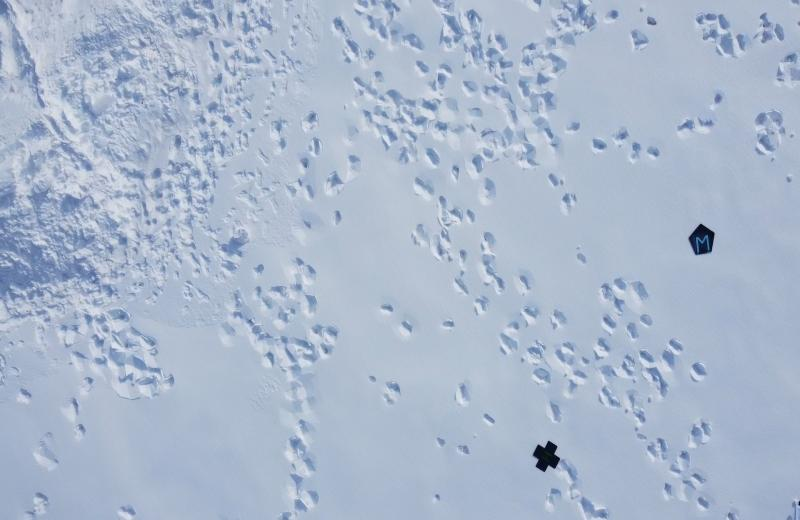Cross: (530, 439, 562, 477)
Pentagon: (684, 220, 717, 257)
